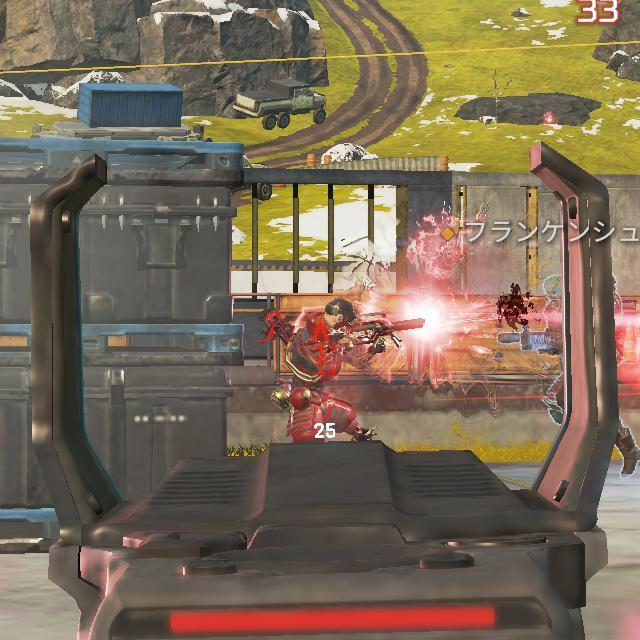avatar: (285, 295, 362, 441)
